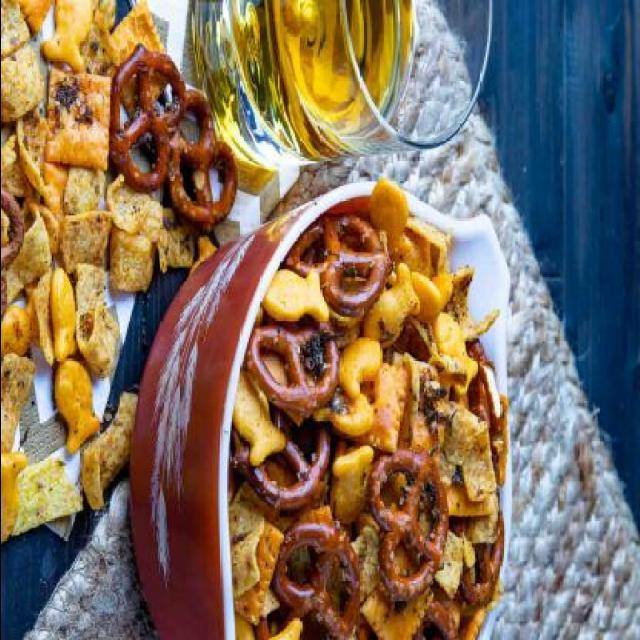Salatini packaged: (238, 181, 515, 640), (0, 9, 196, 506)
